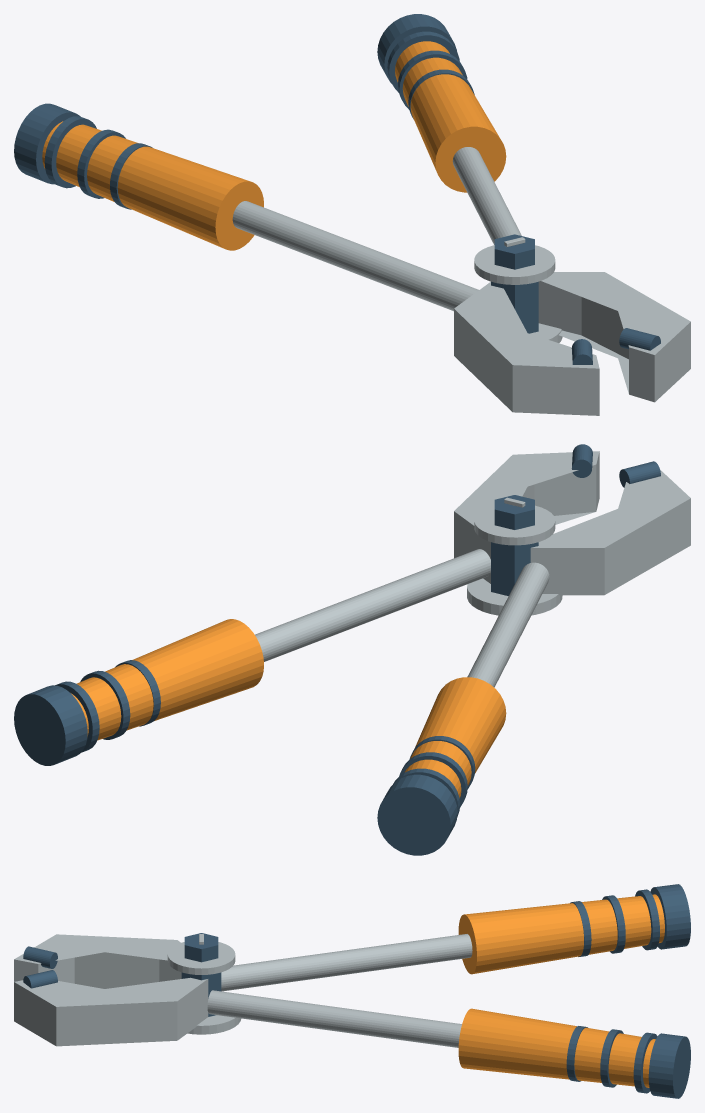
The model's file is container-inspection-and-customs-yard-container-inspec-284b7cbb__29282.glb.
3 renders of one model, top to bottom at view 1: azimuth 30°, elevation 25°; view 2: azimuth 150°, elevation 25°; view 3: azimuth 270°, elevation 25°, orthographic. The views are drawn at different scales.
Parts seen in each view (by area): view 1: container-inspection-and-customs-yard-seal-cutter; view 2: container-inspection-and-customs-yard-seal-cutter; view 3: container-inspection-and-customs-yard-seal-cutter.
Part boxes in pixels (x1=…): container-inspection-and-customs-yard-seal-cutter: x1=14, y1=14, x2=690, y2=415; container-inspection-and-customs-yard-seal-cutter: x1=14, y1=444, x2=690, y2=855; container-inspection-and-customs-yard-seal-cutter: x1=14, y1=884, x2=690, y2=1098.
Bounding box in the file's own units: 0.3478 × 0.075 × 0.5595.
